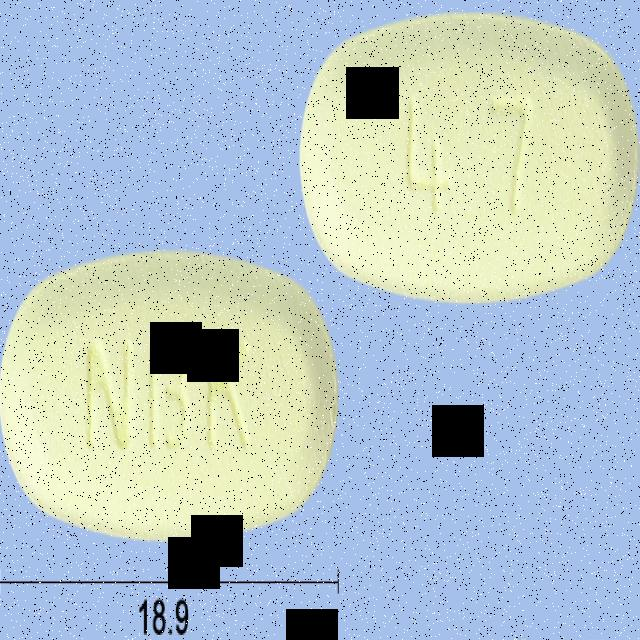Lathrocin-500mg: (0, 246, 335, 544), (301, 10, 639, 296)
